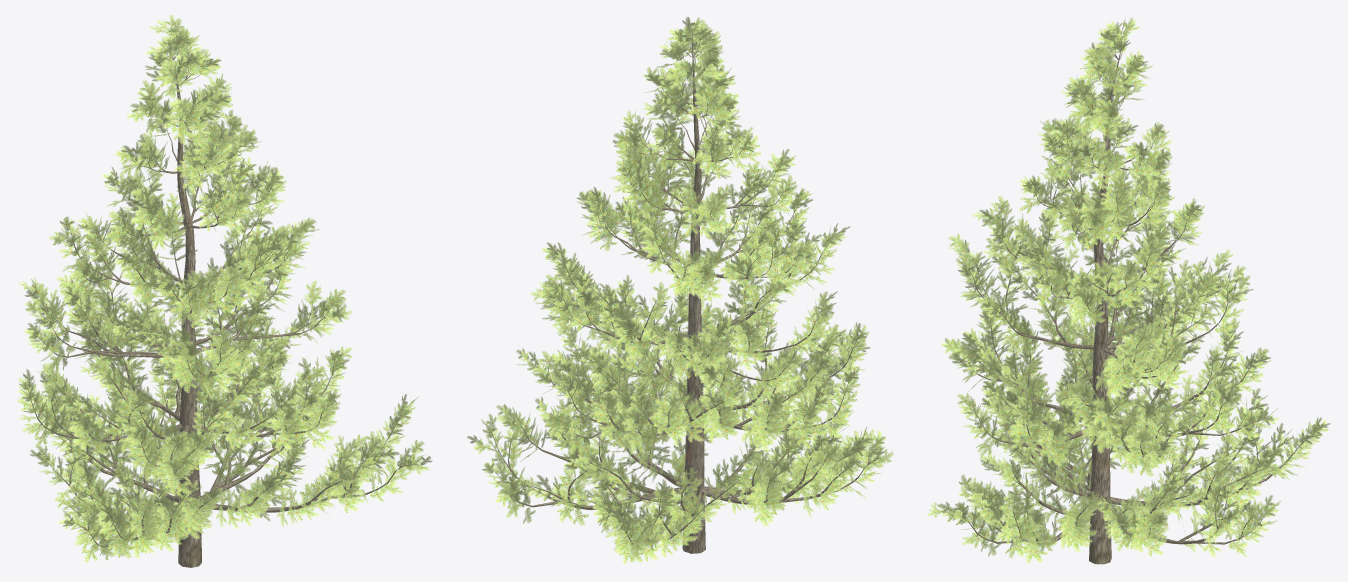
Rendered from tree11.glb.
The picture shows the model from 3 angles, left to right: view 1: azimuth 30°, elevation 25°; view 2: azimuth 150°, elevation 25°; view 3: azimuth 270°, elevation 25°; orthographic projection.
Visible parts, largest first — view 1: leaves, tree; view 2: leaves, tree; view 3: leaves, tree.
Boxes of the visible parts, x1,y1,x2,y2 form: leaves: (16, 14, 432, 563); tree: (28, 32, 418, 567); leaves: (467, 16, 893, 564); tree: (484, 31, 880, 553); leaves: (927, 17, 1330, 563); tree: (941, 32, 1315, 564).
Size of the model in its own units: 3.41 by 4.94 by 3.4.
2 materials, 2 textured.
